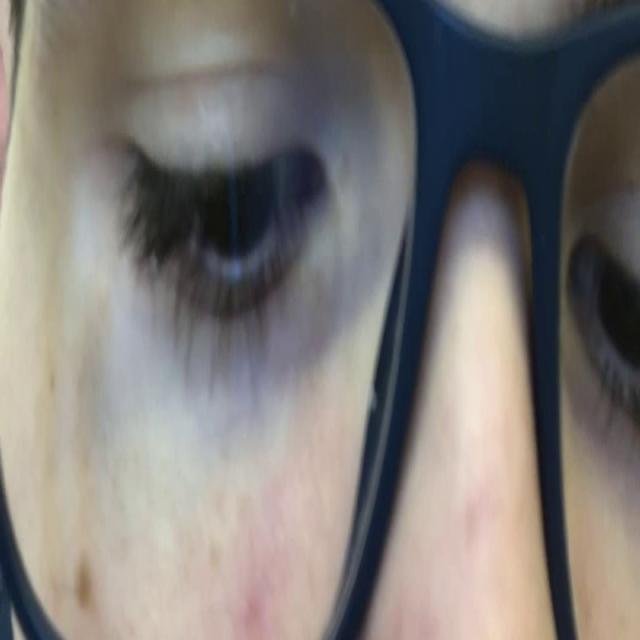eye: (103, 70, 336, 377)
gaze: (196, 119, 274, 305)
